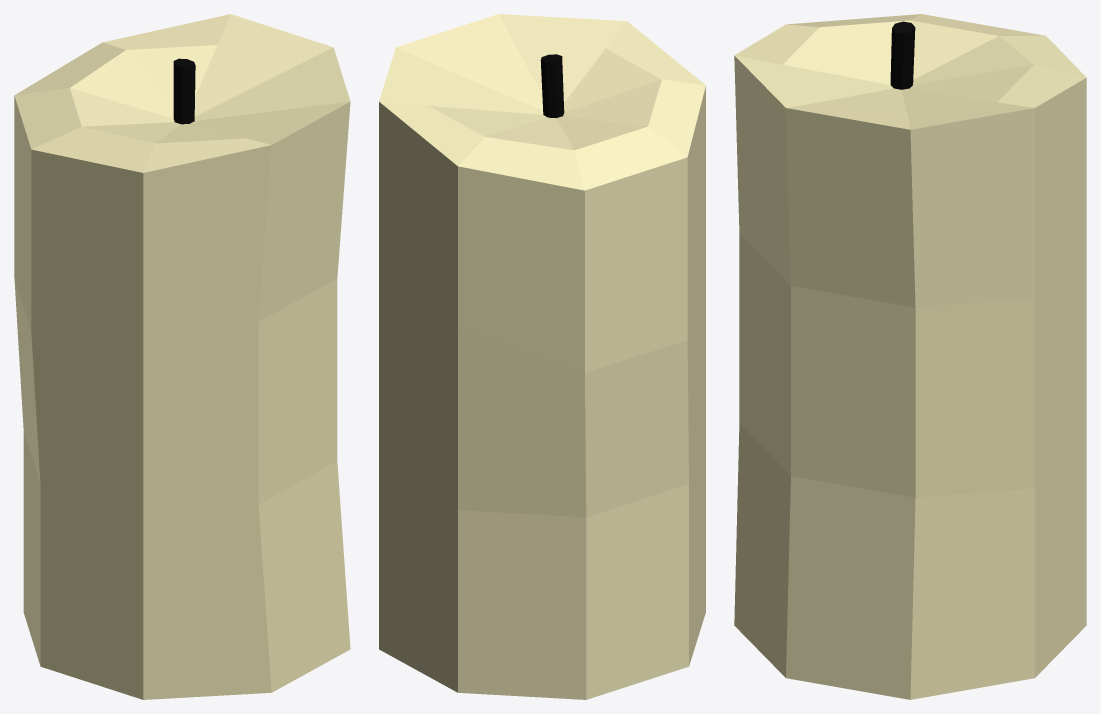
The model's file is Vela.fbx.
3 views of the same model, side by side, from view 1: azimuth 30°, elevation 25°; view 2: azimuth 150°, elevation 25°; view 3: azimuth 270°, elevation 25° (orthographic). The views are drawn at different scales.
Visible parts, largest first — view 1: Vela (Individual); view 2: Vela (Individual); view 3: Vela (Individual).
Part boxes in pixels (<box>): Vela (Individual): <box>14,14,350,699</box>; Vela (Individual): <box>379,14,705,699</box>; Vela (Individual): <box>734,14,1086,699</box>.
Size of the model in its own units: 142 by 261 by 140.
Materials: 1 (1 with a texture image).
